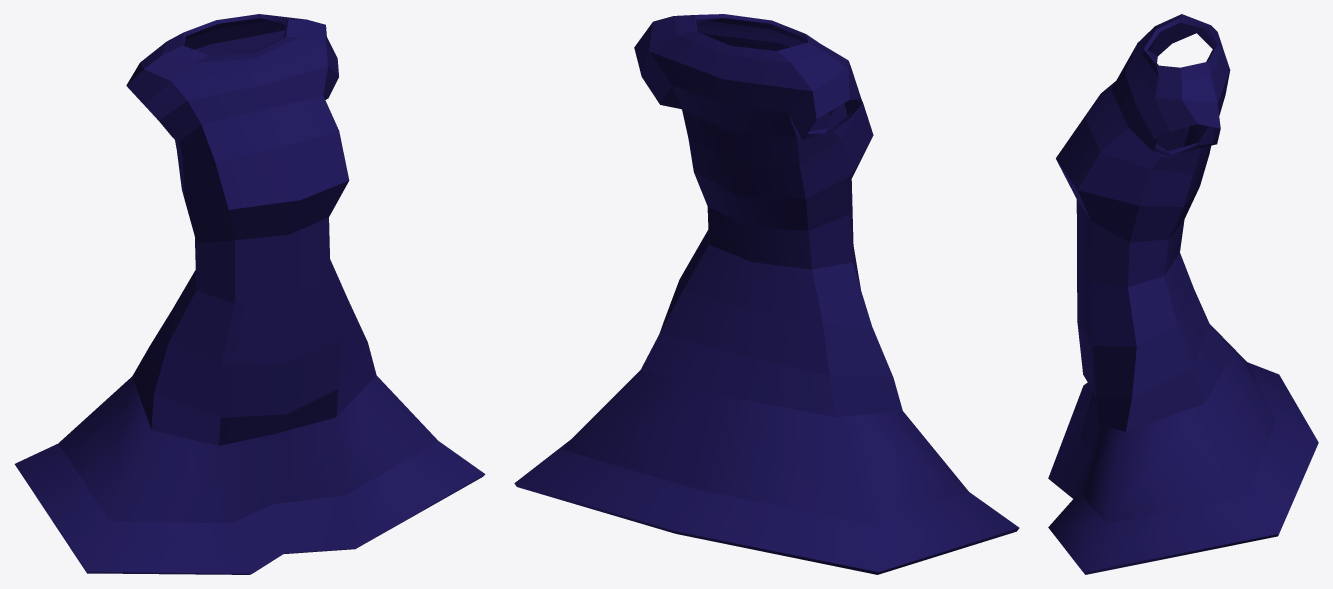
File: Char-model_Female-CLOTHES1.fbx
3 views of the same model, side by side, from view 1: azimuth 30°, elevation 25°; view 2: azimuth 150°, elevation 25°; view 3: azimuth 270°, elevation 25° (orthographic). The views are drawn at different scales.
Parts seen in each view (by area): view 1: Char_Clothes1; view 2: Char_Clothes1; view 3: Char_Clothes1.
Boxes of the visible parts, x1,y1,x2,y2 form: Char_Clothes1: (14, 14, 485, 574); Char_Clothes1: (514, 14, 1019, 574); Char_Clothes1: (1048, 14, 1318, 574).
Bounding box in the file's own units: 513 × 599 × 314.
